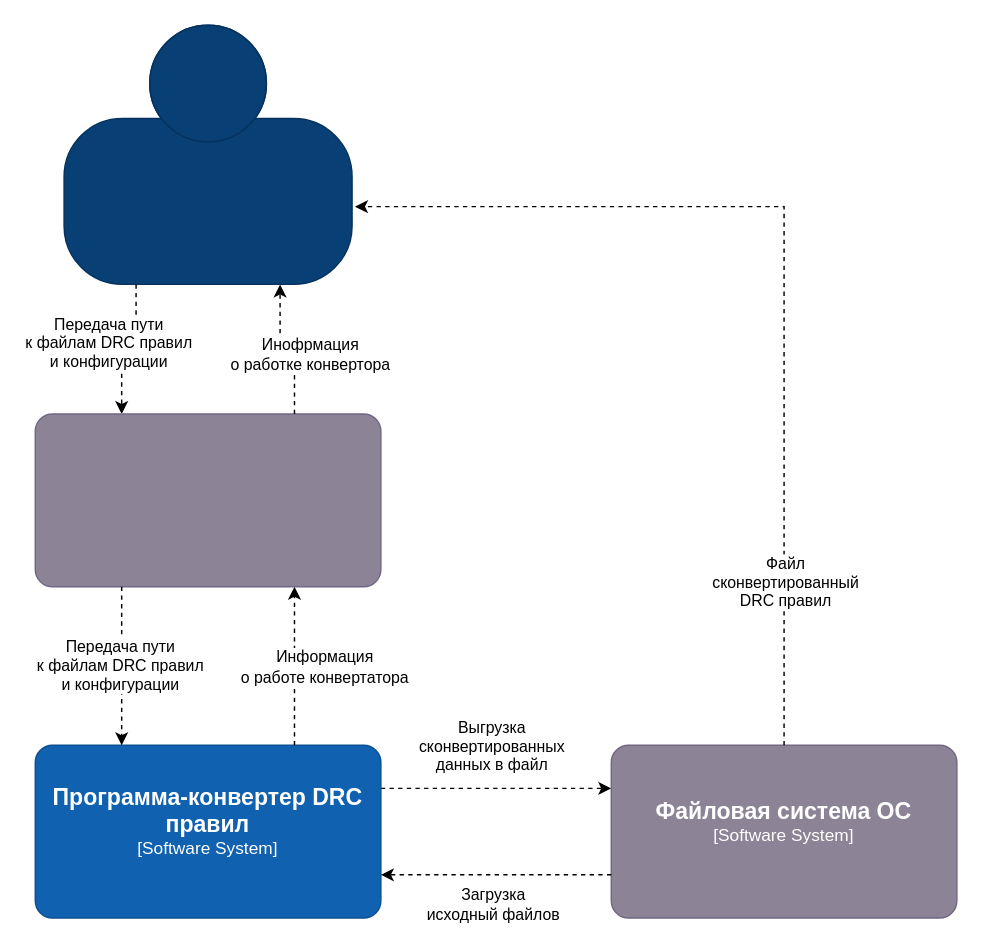
Some shapes in this 982 by 948 pixel diagram are drawn without their labels. Here are the shapes that lost their labels. From the top down, the box of each, then its label:
(63, 24, 352, 284): Пользователь [Person] Инженер по верификации/разработчик
(34, 413, 381, 587): Консоль/терминал [Software System]
